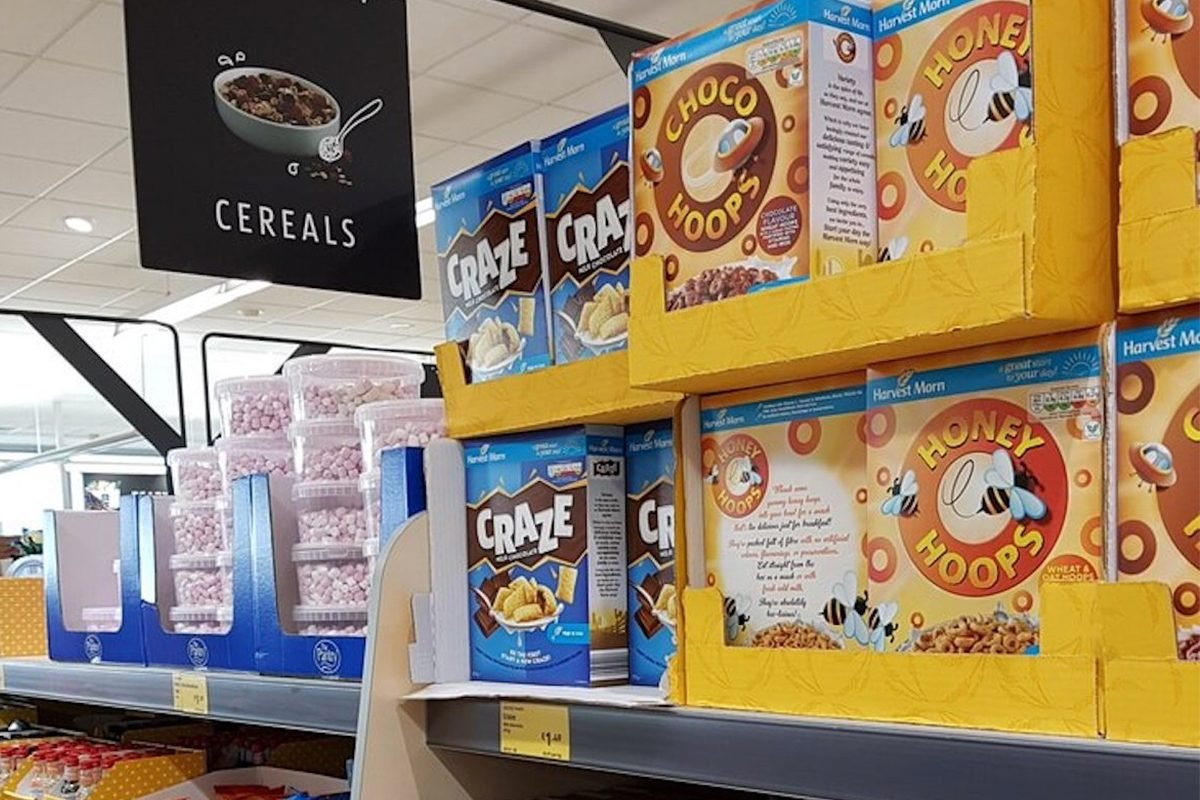cereal: (867, 348, 1111, 661), (690, 384, 868, 668), (633, 49, 808, 334), (865, 2, 1040, 252), (466, 423, 585, 680), (430, 183, 552, 407)
